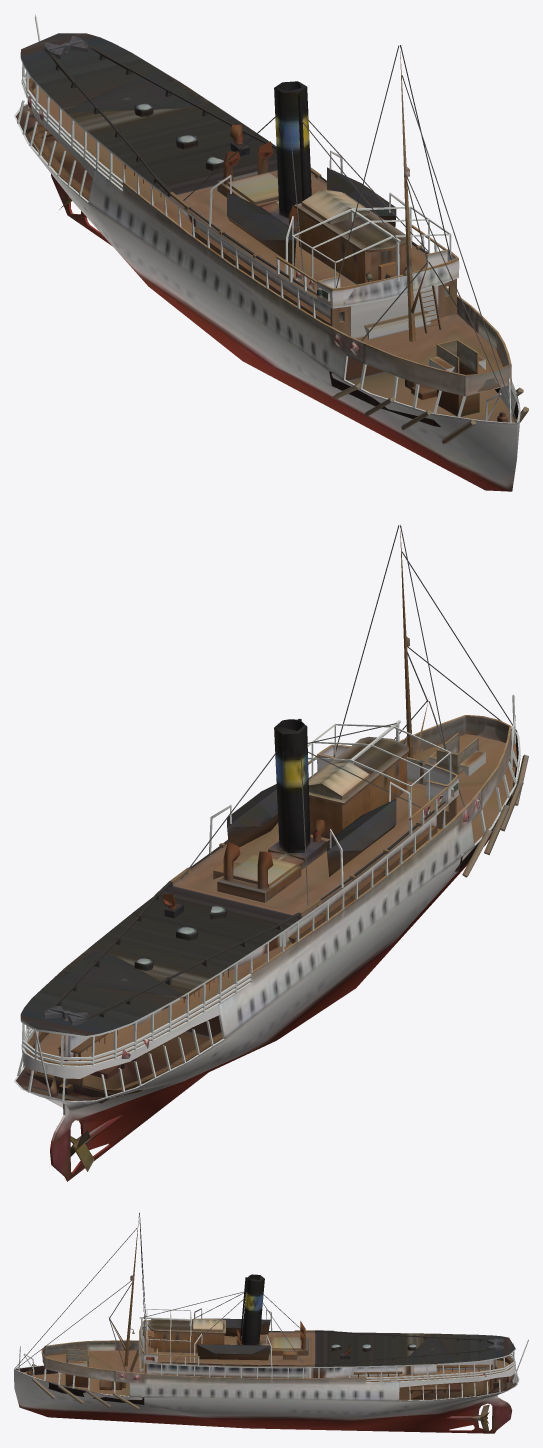
Rendered from steamer.glb.
The picture shows the model from 3 angles, top to bottom: view 1: azimuth 30°, elevation 25°; view 2: azimuth 150°, elevation 25°; view 3: azimuth 270°, elevation 25°; orthographic projection. The views are drawn at different scales.
Parts seen in each view (by area): view 1: mn-norrtelje_mn-norrtelje_d_0; view 2: mn-norrtelje_mn-norrtelje_d_0; view 3: mn-norrtelje_mn-norrtelje_d_0.
Part boxes in pixels (left/top/right/bottom): mn-norrtelje_mn-norrtelje_d_0: left=14, top=14, right=528, bottom=491; mn-norrtelje_mn-norrtelje_d_0: left=14, top=524, right=528, bottom=1181; mn-norrtelje_mn-norrtelje_d_0: left=14, top=1213, right=528, bottom=1433.
Size of the model in its own units: 7.3 by 21.25 by 44.38.
1 material, 1 textured.
